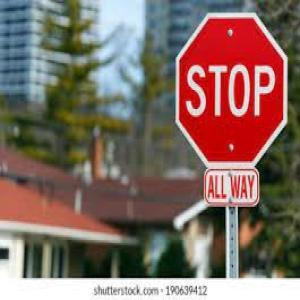STOP: (176, 15, 291, 167)
